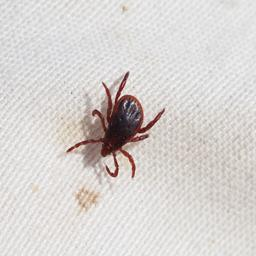Rhipicephalus sanguineus: (74, 65, 169, 173)
